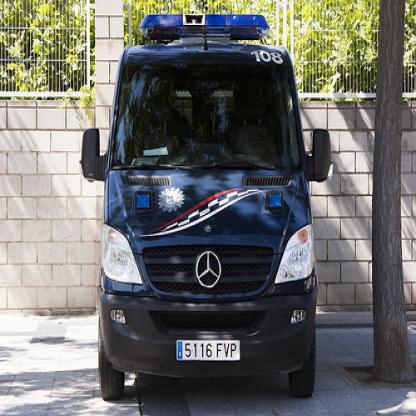Vehicle: (80, 10, 334, 410)
